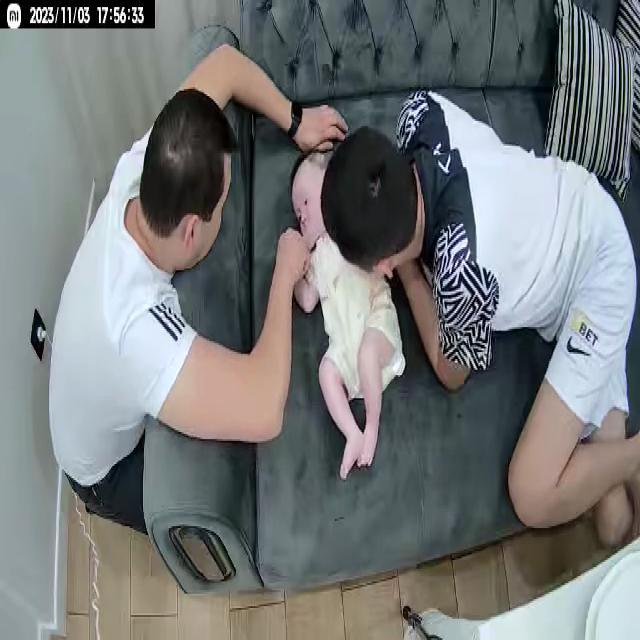baby: (280, 141, 406, 482)
